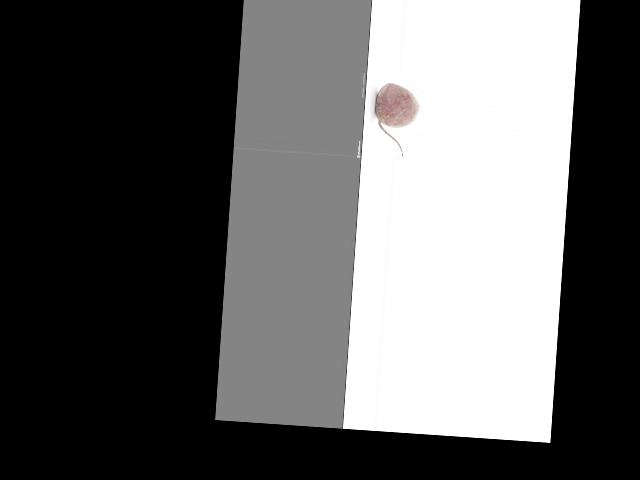beet: (371, 81, 420, 157)
